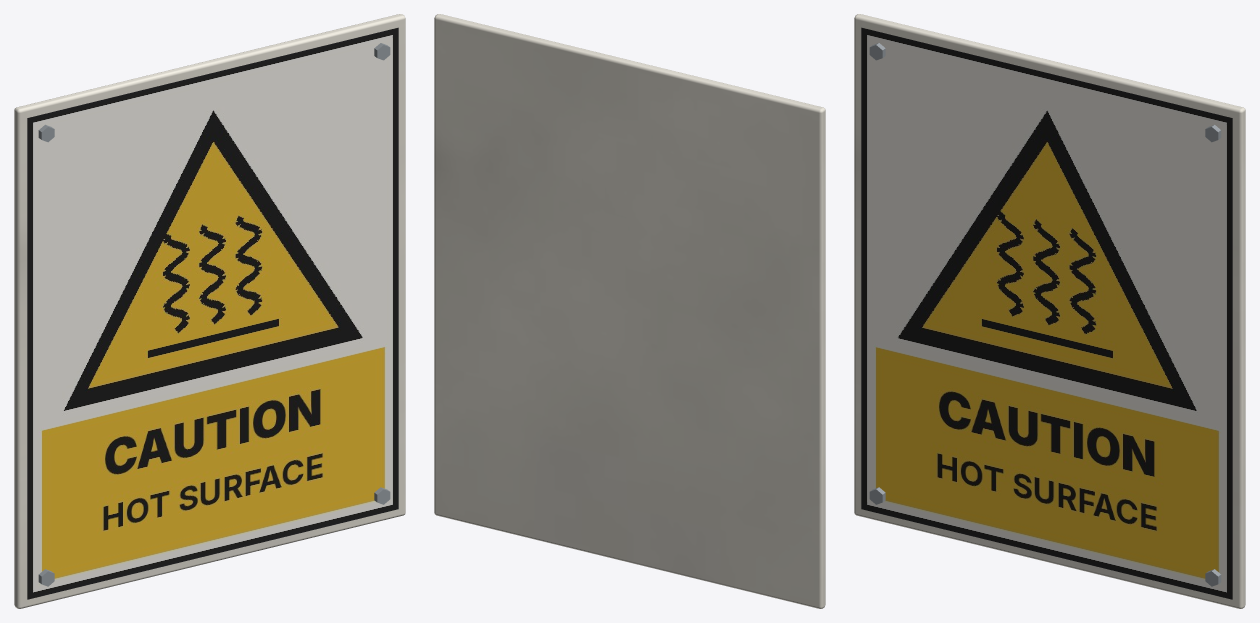
Rendered from Sign_Hot.glb.
The picture shows the model from 3 angles, left to right: view 1: azimuth 30°, elevation 25°; view 2: azimuth 150°, elevation 25°; view 3: azimuth 330°, elevation 25°; orthographic projection.
Parts seen in each view (by area): view 1: Sign_Hot_Body; view 2: Sign_Hot_Body; view 3: Sign_Hot_Body.
Part boxes in pixels (x1,y1,x2,y2): Sign_Hot_Body: (14,14,405,608); Sign_Hot_Body: (434,14,825,608); Sign_Hot_Body: (854,14,1245,608).
Size of the model in its own units: 0.262 by 0.322 by 0.01.
3 materials, 2 textured.
